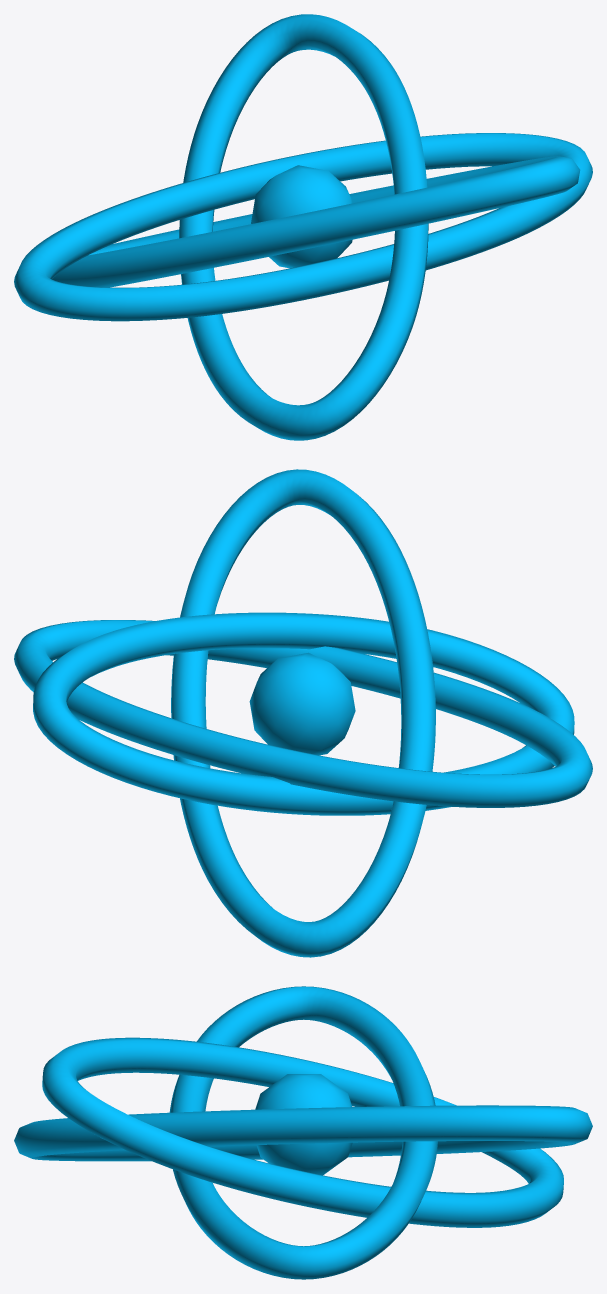
The model's file is React.glb.
3 views of the same model, one above another, from view 1: azimuth 30°, elevation 25°; view 2: azimuth 150°, elevation 25°; view 3: azimuth 270°, elevation 25° (orthographic).
Visible parts, largest first — view 1: Curve.001, Curve.002, Curve.003, Icosphere; view 2: Curve.003, Curve.002, Curve.001, Icosphere; view 3: Curve.003, Curve.001, Curve.002, Icosphere.
Part boxes in pixels (box(x1,y1,x2,y2)): Curve.001: box(14, 133, 592, 321); Curve.002: box(179, 14, 428, 440); Curve.003: box(52, 156, 580, 287); Icosphere: box(251, 165, 352, 268); Curve.003: box(171, 469, 435, 957); Curve.002: box(33, 612, 574, 815); Curve.001: box(14, 620, 592, 807); Icosphere: box(249, 652, 355, 755); Curve.003: box(42, 1037, 563, 1227); Curve.001: box(169, 986, 437, 1279); Curve.002: box(14, 1105, 592, 1161); Icosphere: box(255, 1074, 352, 1175).
Size of the model in its own units: 1.85 by 0.7732 by 1.65.
